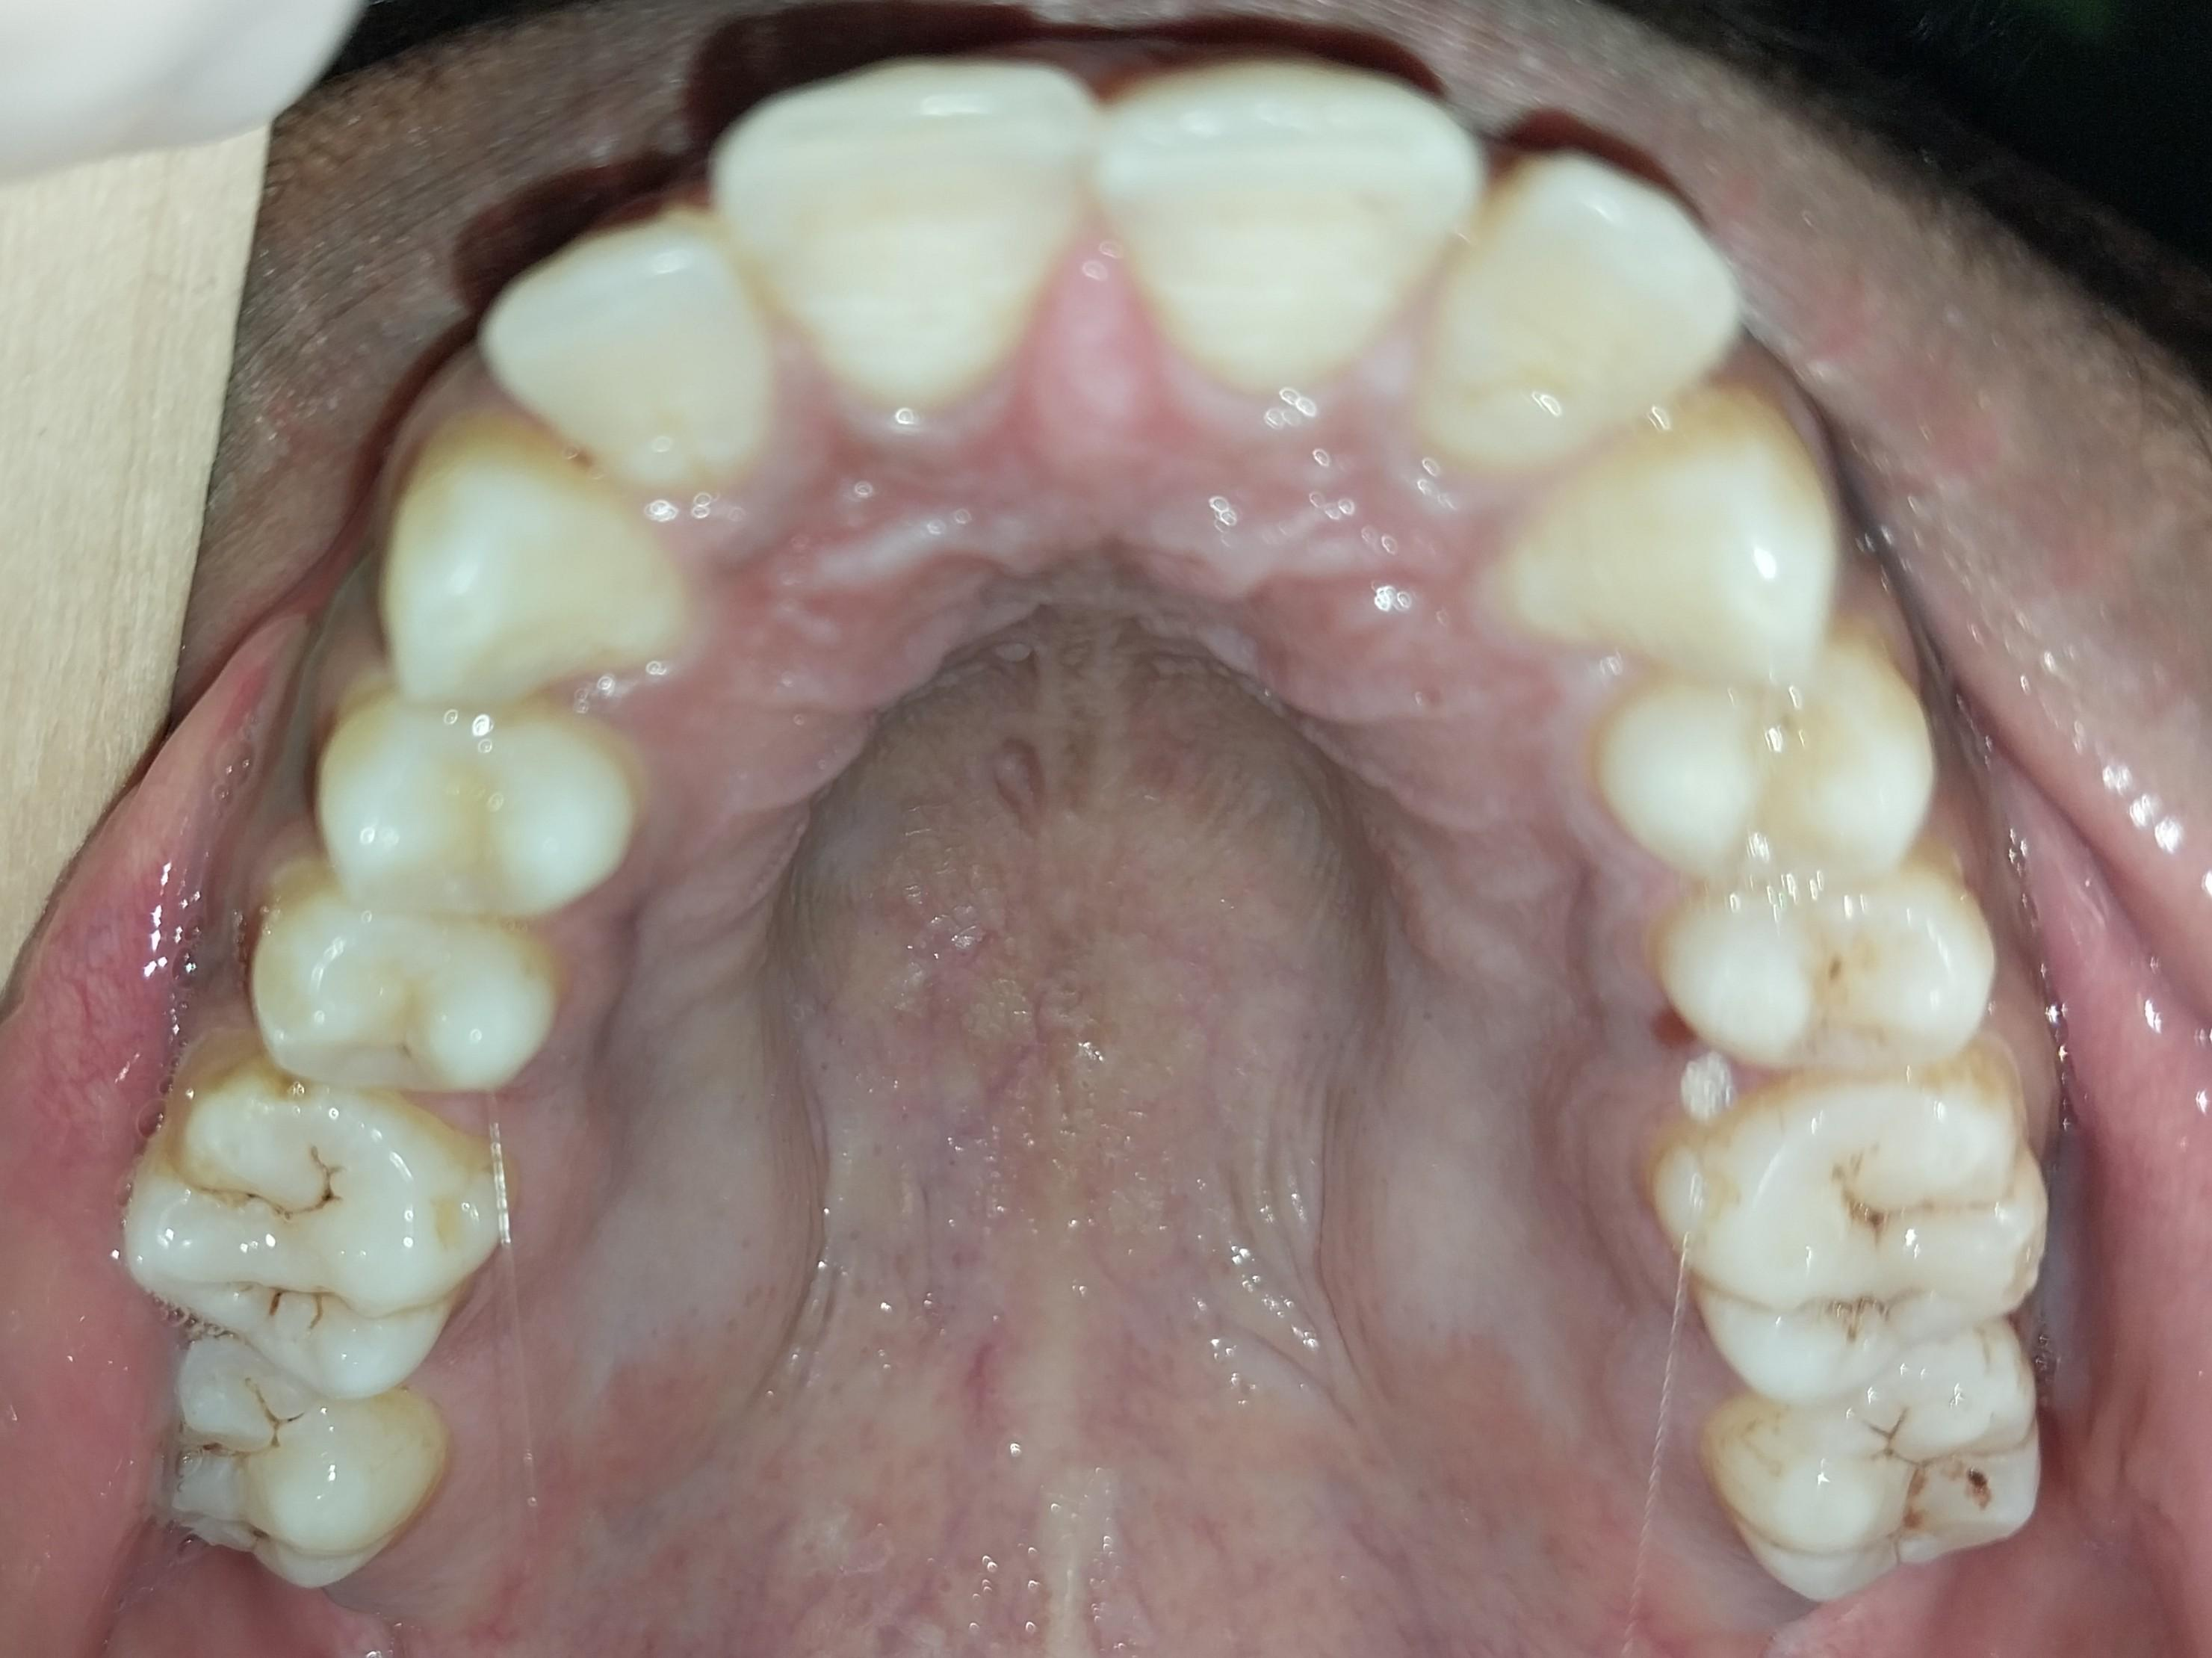D: (120, 1027, 506, 1399), (1645, 1072, 2053, 1399), (1697, 1326, 2040, 1603), (157, 1326, 437, 1591)
